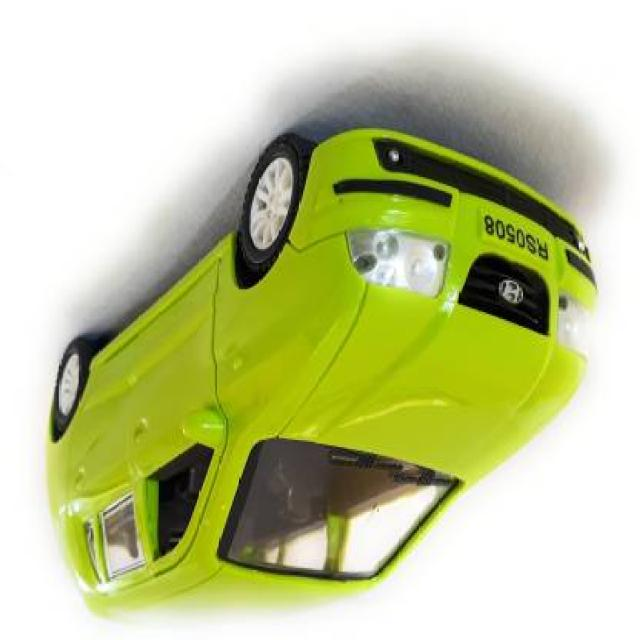Car: (46, 126, 600, 631)
